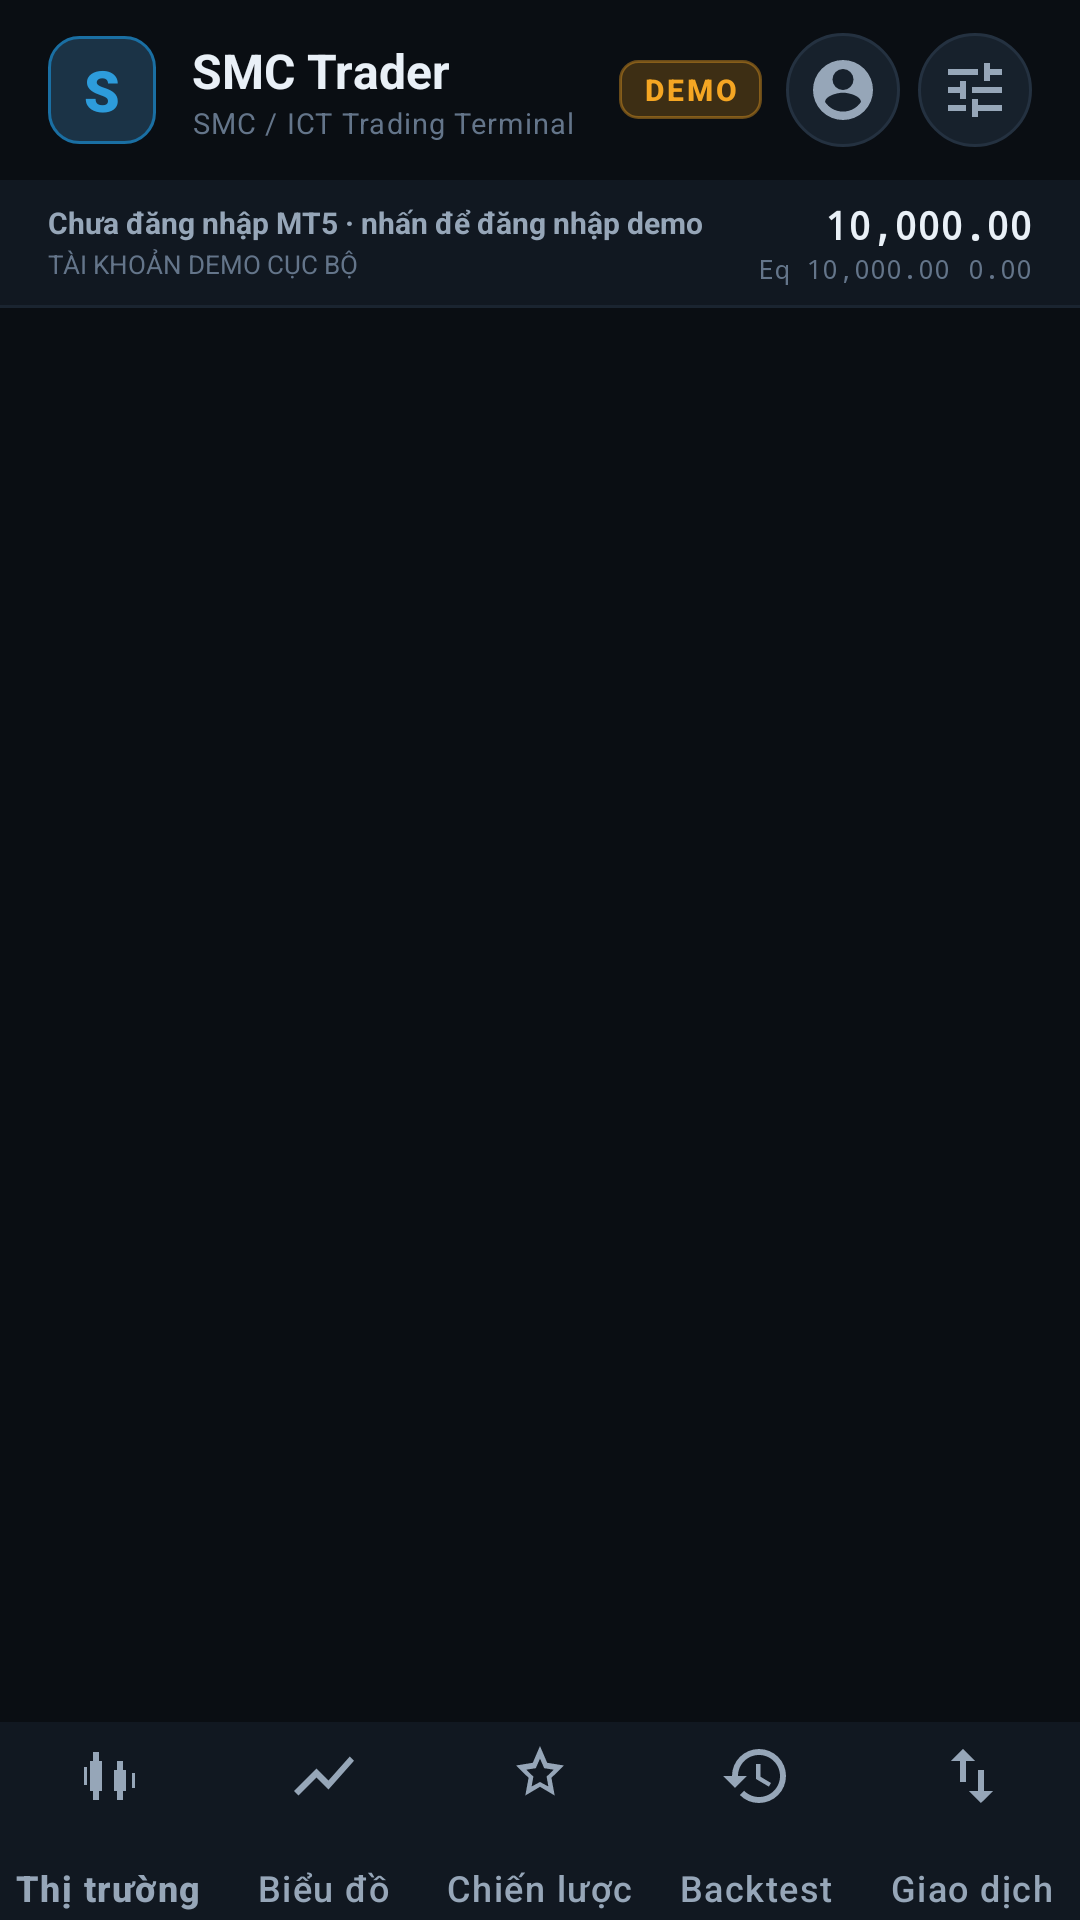

Icons on this 1080 x 1920 Android screen, each with its box as (x1, y1, x2, y2):
Cài đặt: (918, 33, 1032, 147)
Phiên tài khoản: (786, 33, 900, 147)
